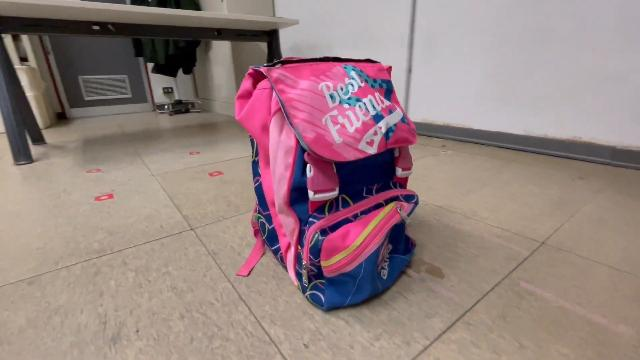Backpack: (225, 48, 430, 316)
